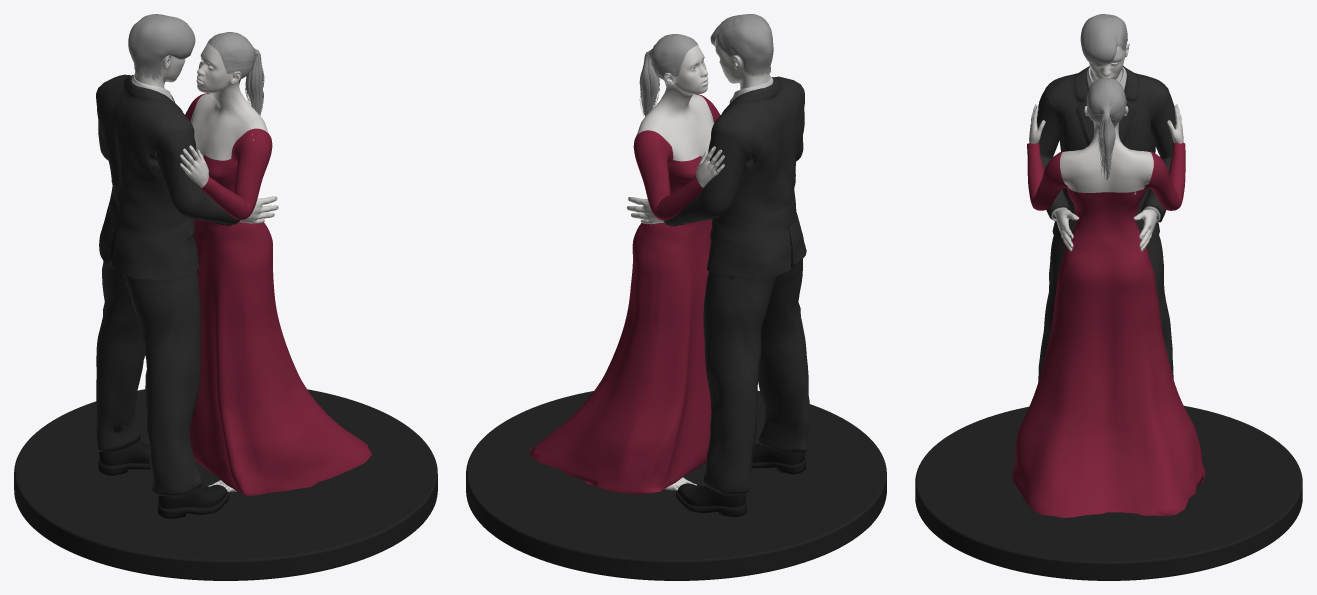
File: MYBI_Wedding_Burgundy.glb
3 views of the same model, side by side, from view 1: azimuth 30°, elevation 25°; view 2: azimuth 150°, elevation 25°; view 3: azimuth 270°, elevation 25° (orthographic). The views are drawn at different scales.
Visible parts, largest first — view 1: MYBI_Wedding_Base_Web, Human.male_elegantsuit01_Web, Human.mindfront_f_dress_09_Web, Human.001_Web, Human.short03_Web, Human.shoes03_Web, Human.ponytail01_Web, Human_Web; view 2: MYBI_Wedding_Base_Web, Human.male_elegantsuit01_Web, Human.mindfront_f_dress_09_Web, Human.001_Web, Human.shoes03_Web, Human.short03_Web, Human.ponytail01_Web, Human_Web; view 3: Human.mindfront_f_dress_09_Web, MYBI_Wedding_Base_Web, Human.male_elegantsuit01_Web, Human.001_Web, Human.ponytail01_Web, Human.short03_Web, Human_Web.
Part boxes in pixels (bbox=[...]): MYBI_Wedding_Base_Web: bbox=[14, 389, 437, 580]; Human.male_elegantsuit01_Web: bbox=[96, 74, 240, 496]; Human.mindfront_f_dress_09_Web: bbox=[185, 93, 371, 495]; Human.001_Web: bbox=[180, 43, 268, 492]; Human.short03_Web: bbox=[128, 14, 195, 80]; Human.shoes03_Web: bbox=[98, 425, 229, 518]; Human.ponytail01_Web: bbox=[207, 32, 264, 115]; Human_Web: bbox=[134, 55, 278, 223]; MYBI_Wedding_Base_Web: bbox=[466, 390, 886, 580]; Human.male_elegantsuit01_Web: bbox=[663, 76, 810, 494]; Human.mindfront_f_dress_09_Web: bbox=[530, 94, 720, 494]; Human.001_Web: bbox=[636, 45, 724, 490]; Human.shoes03_Web: bbox=[675, 443, 806, 516]; Human.short03_Web: bbox=[710, 14, 773, 76]; Human.ponytail01_Web: bbox=[639, 34, 698, 116]; Human_Web: bbox=[627, 37, 770, 224]; Human.mindfront_f_dress_09_Web: bbox=[1012, 142, 1205, 517]; MYBI_Wedding_Base_Web: bbox=[915, 406, 1302, 580]; Human.male_elegantsuit01_Web: bbox=[1037, 66, 1175, 382]; Human.001_Web: bbox=[1029, 104, 1183, 194]; Human.ponytail01_Web: bbox=[1086, 77, 1126, 180]; Human.short03_Web: bbox=[1080, 14, 1127, 66]; Human_Web: bbox=[1054, 43, 1157, 251].
Size of the model in its own units: 1.43 by 1.83 by 1.43.
Materials: 8 (2 with a texture image).
